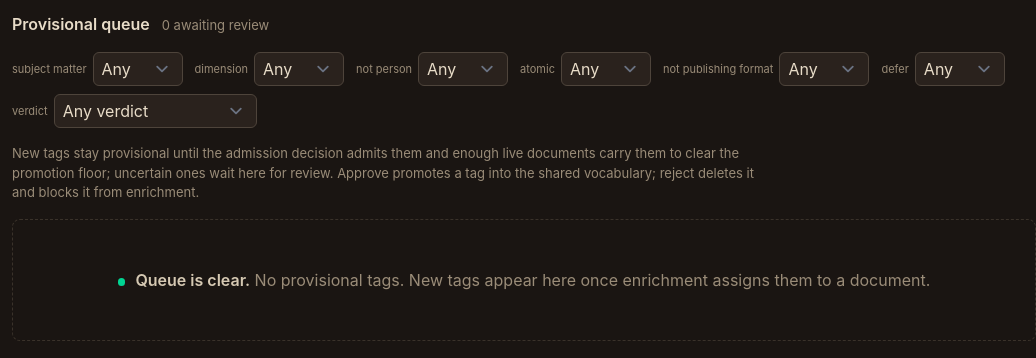
it: ProvisionalReview filters and paging › sends an active criterion to the API and syncs it to the URL
Select "✗ fail" in the dropdown labelled "atomic". click: (606, 69)
box: [561,52,651,86]
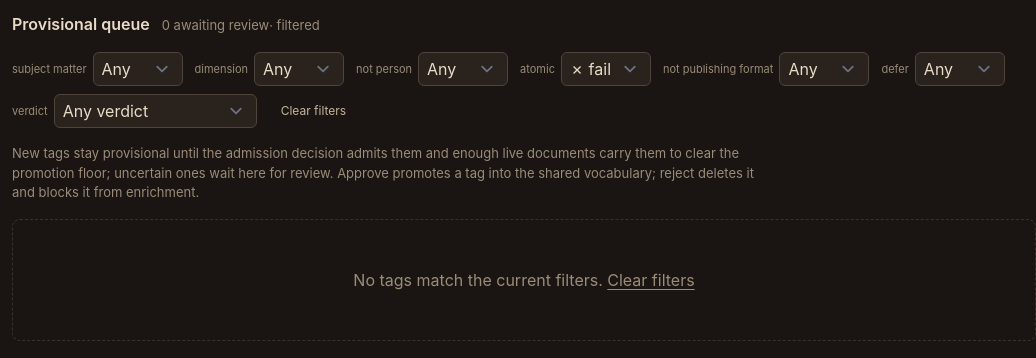
Expected: the text "No tags match the current filters." is shown, [353,270,607,290]
